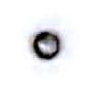cancer: (20, 12, 79, 76)
